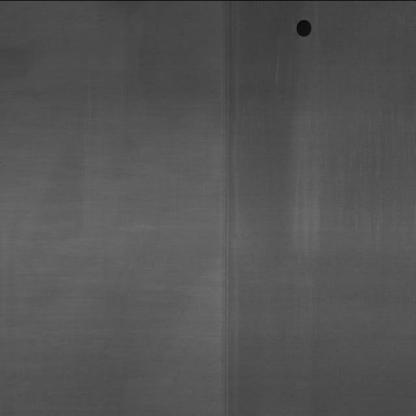punching_hole: (290, 16, 317, 38)
welding_line: (203, 3, 248, 412)
